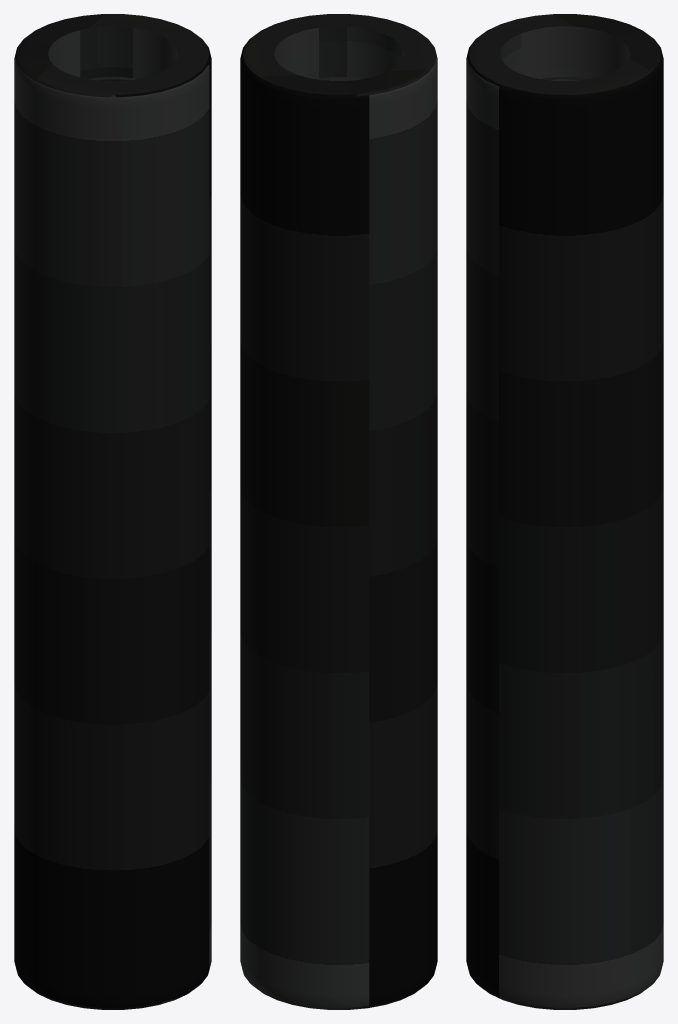
Rendered from Suppressor_Rifle556.fbx.
3 renders of one model, left to right at view 1: azimuth 30°, elevation 25°; view 2: azimuth 150°, elevation 25°; view 3: azimuth 270°, elevation 25°, orthographic.
Visible parts, largest first — view 1: asset_Suppressor_Rifle556.001; view 2: asset_Suppressor_Rifle556.001; view 3: asset_Suppressor_Rifle556.001.
Boxes of the visible parts, bbox=[...] form: asset_Suppressor_Rifle556.001: bbox=[14, 14, 211, 1009]; asset_Suppressor_Rifle556.001: bbox=[240, 14, 437, 1009]; asset_Suppressor_Rifle556.001: bbox=[466, 14, 663, 1009].
Bounding box in the file's own units: 0.0197 × 0.102 × 0.0198.
